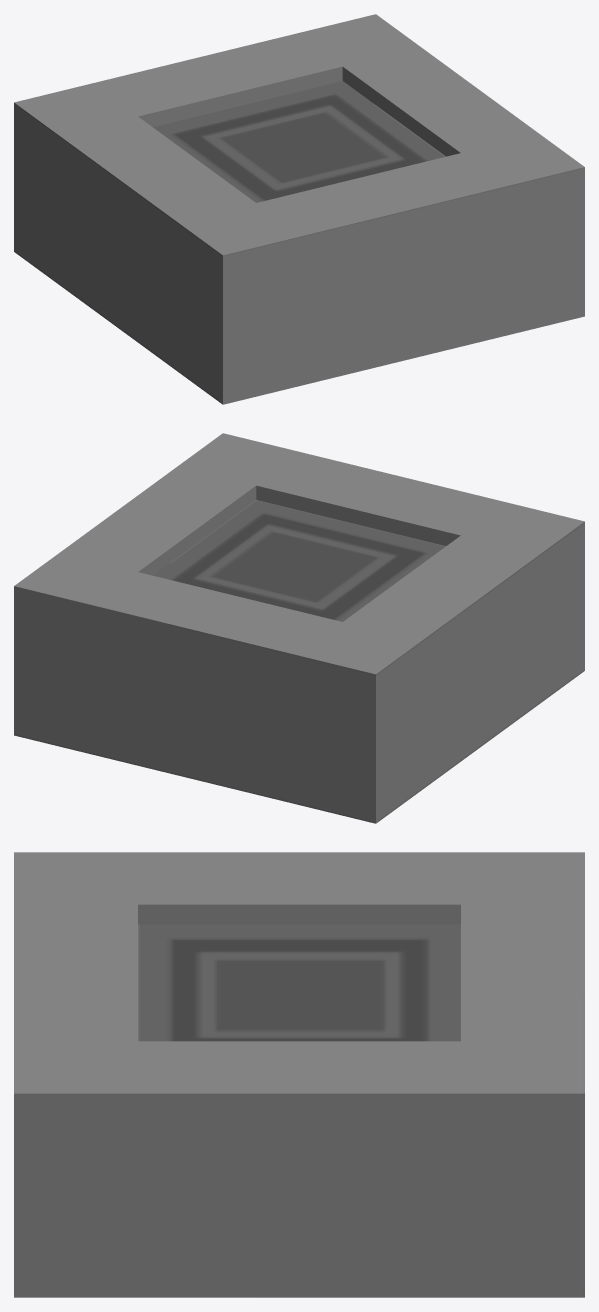
Rendered from HardwareStoreRooftopFan.glb.
3 views of the same model, one above another, from view 1: azimuth 30°, elevation 25°; view 2: azimuth 150°, elevation 25°; view 3: azimuth 270°, elevation 25° (orthographic). The views are drawn at different scales.
Visible parts, largest first — view 1: HardwareStoreRooftopFan; view 2: HardwareStoreRooftopFan; view 3: HardwareStoreRooftopFan.
Boxes of the visible parts, x1=… form: HardwareStoreRooftopFan: x1=14, y1=14, x2=584, y2=404; HardwareStoreRooftopFan: x1=14, y1=433, x2=584, y2=823; HardwareStoreRooftopFan: x1=14, y1=852, x2=584, y2=1297.
Size of what is drawn, in the model's own units: 2 by 0.7886 by 2.
1 material, 1 textured.
